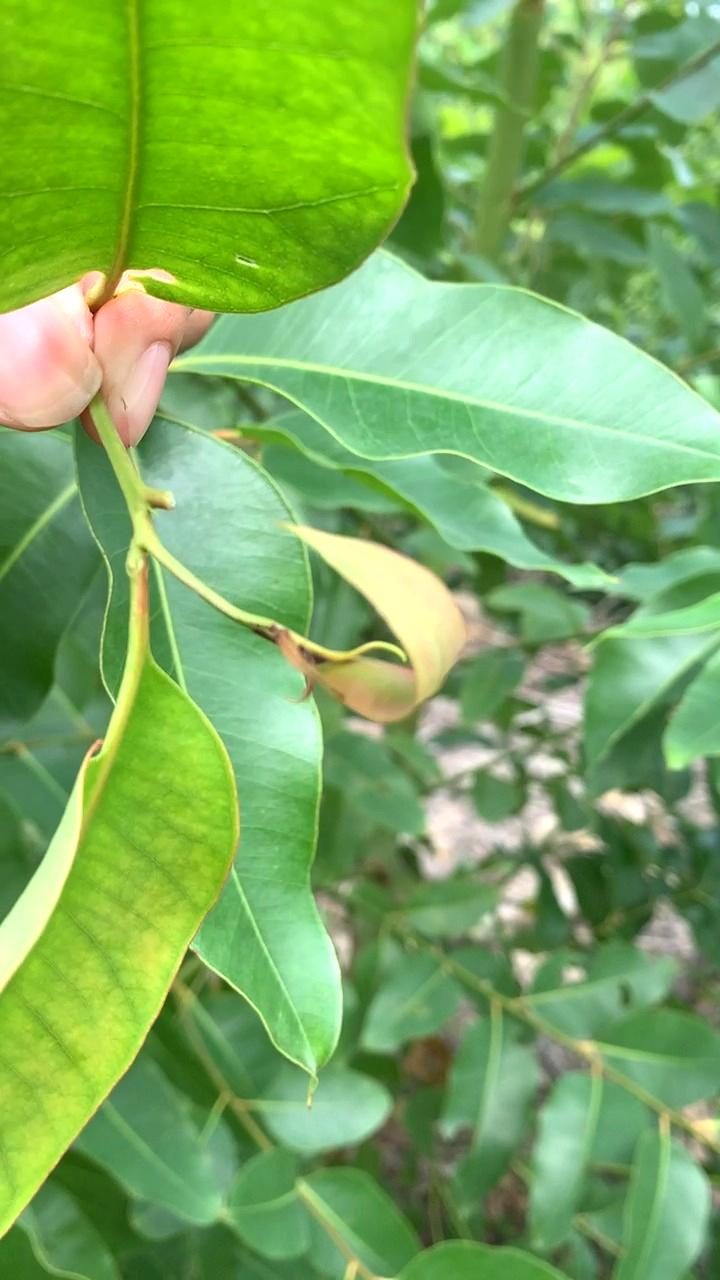Helopeltis-Withered Sprout: (266, 528, 467, 729)
